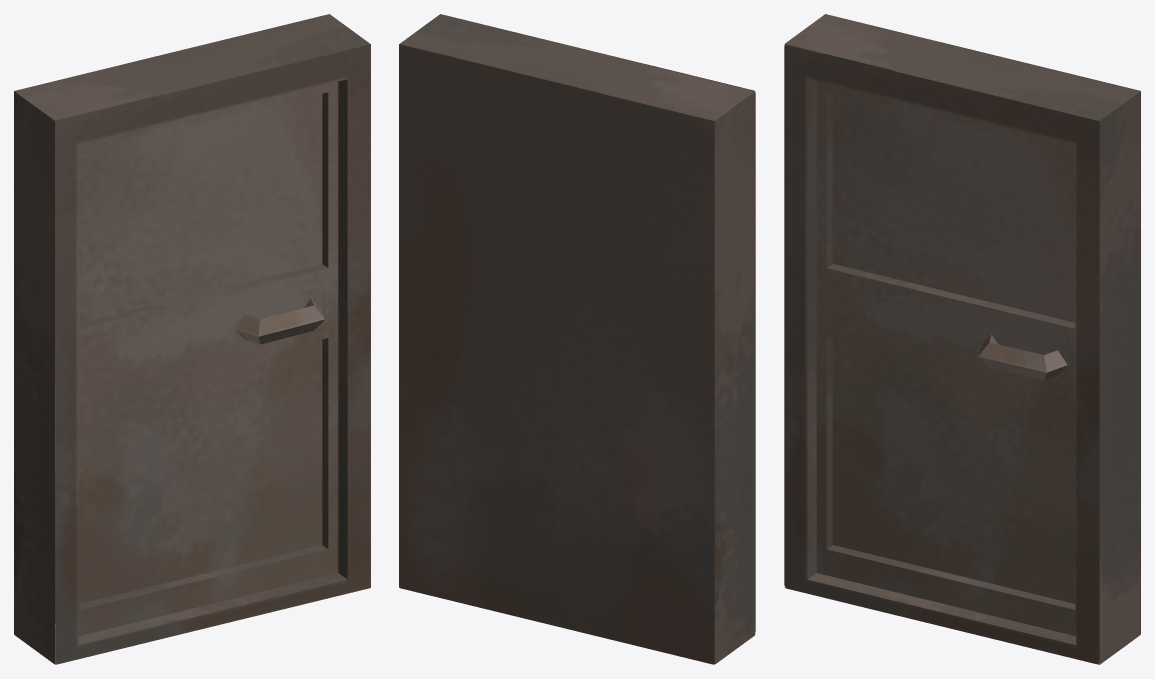
The model's file is PUERTAV2.fbx.
3 views of the same model, side by side, from view 1: azimuth 30°, elevation 25°; view 2: azimuth 150°, elevation 25°; view 3: azimuth 330°, elevation 25° (orthographic).
Parts seen in each view (by area): view 1: Puerta.001; view 2: Puerta.001; view 3: Puerta.001.
Boxes of the visible parts, x1=… form: Puerta.001: x1=14, y1=14, x2=370, y2=664; Puerta.001: x1=399, y1=14, x2=755, y2=664; Puerta.001: x1=784, y1=14, x2=1140, y2=664.
Size of the model in its own units: 294 by 485 by 73.8.
